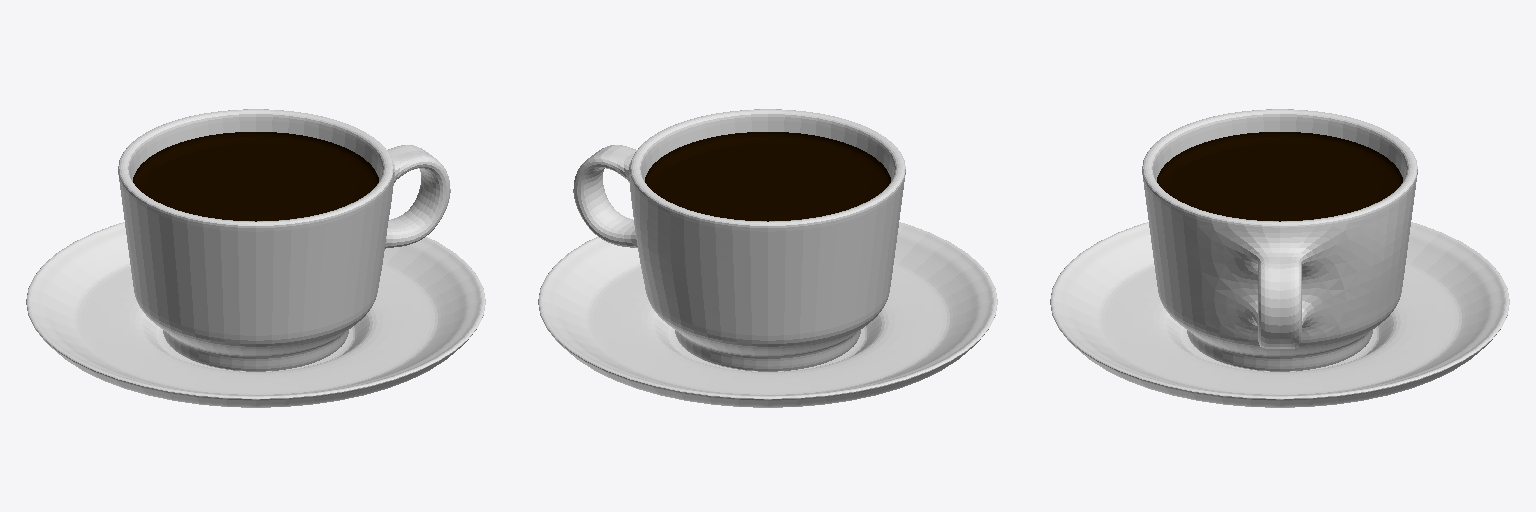
The model's file is kaffeetasse.obj.
The picture shows the model from 3 angles: view 1: azimuth 30°, elevation 25°; view 2: azimuth 150°, elevation 25°; view 3: azimuth 270°, elevation 25°; orthographic projection.
Parts seen in each view (by area): view 1: caffe_final:Mesh; view 2: caffe_final:Mesh; view 3: caffe_final:Mesh.
Boxes of the visible parts, x1,y1,x2,y2 form: caffe_final:Mesh: [26, 109, 485, 407]; caffe_final:Mesh: [538, 109, 997, 407]; caffe_final:Mesh: [1050, 109, 1509, 407].
Size of the model in its own units: 9.96 by 4.29 by 9.96.